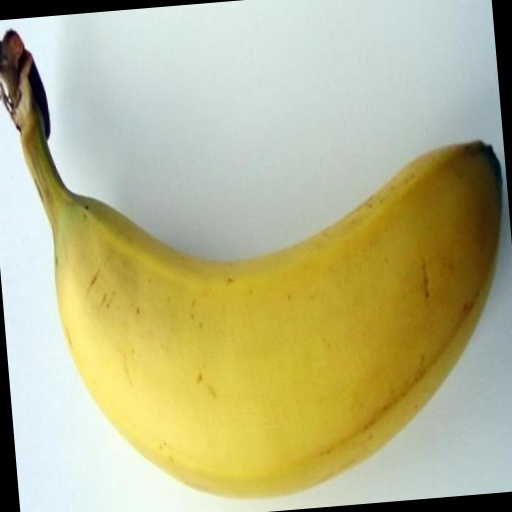fruit: (474, 86, 512, 394)
